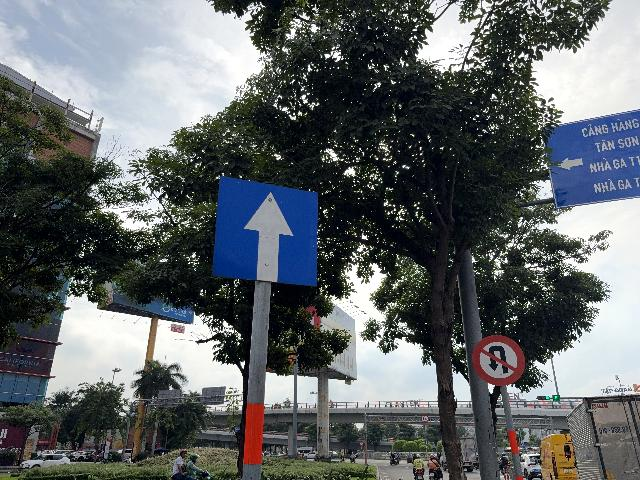cam-quay-dau-xe: (473, 334, 525, 387)
duong-mot-chieu: (212, 176, 318, 287)
